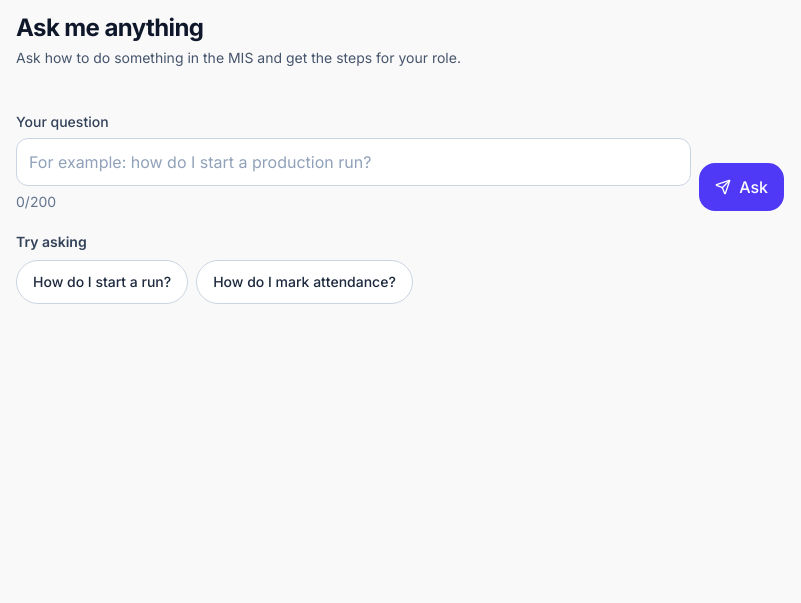
AskScreen › none: friendly empty state
Click the button "How do I start a run?" at (102, 282), box [16,260,188,304]
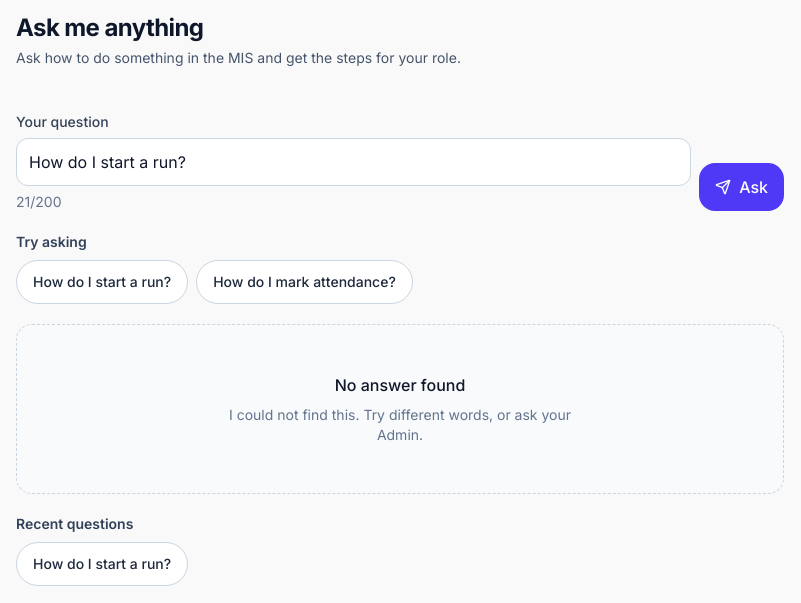
Now the text "No answer found" is shown, box [335,373,465,397]
